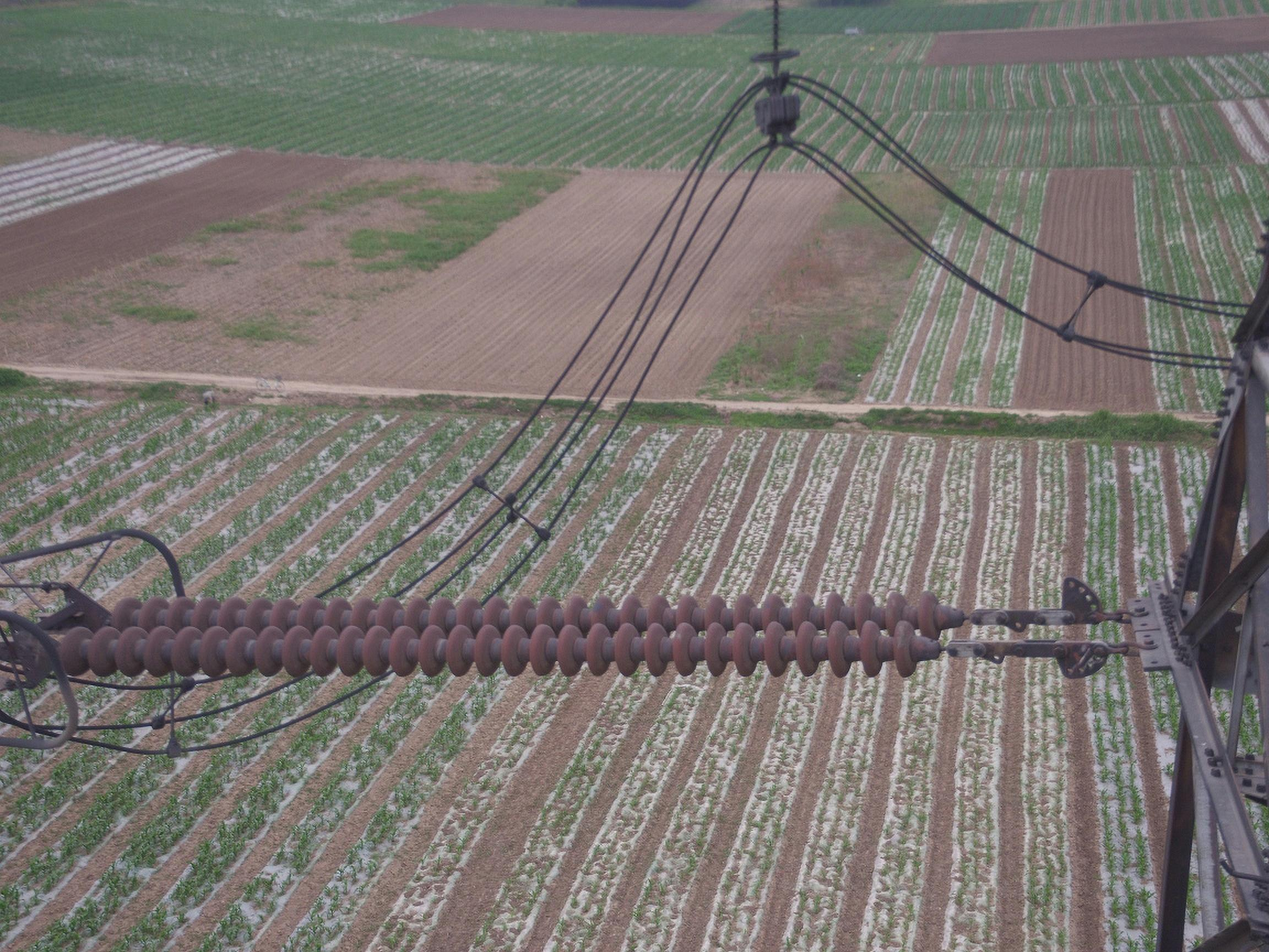insulator: (53, 584, 947, 685)
